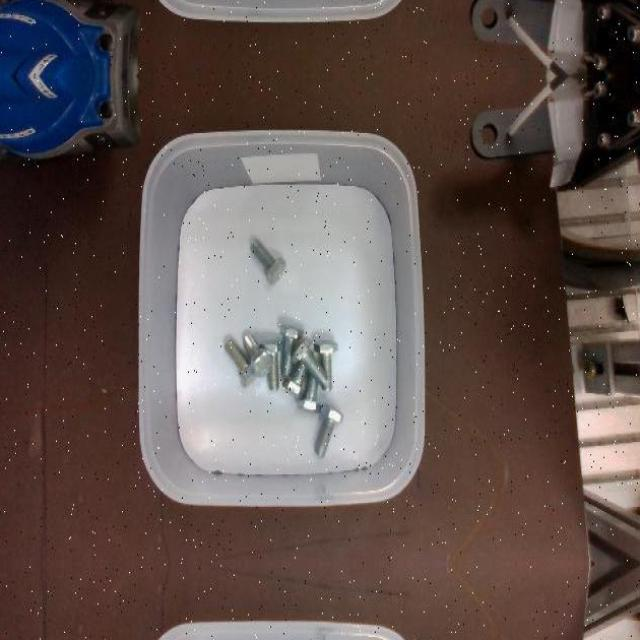screw: (293, 335, 329, 386), (314, 402, 344, 458), (250, 239, 285, 285), (244, 334, 274, 376), (279, 323, 304, 373)
